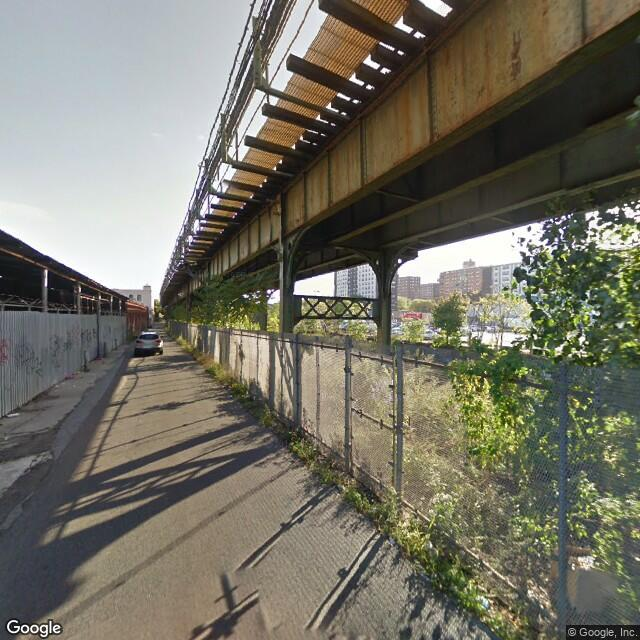litter: (549, 541, 614, 610), (423, 543, 440, 559), (478, 595, 492, 610), (8, 412, 23, 416), (54, 381, 60, 386)
